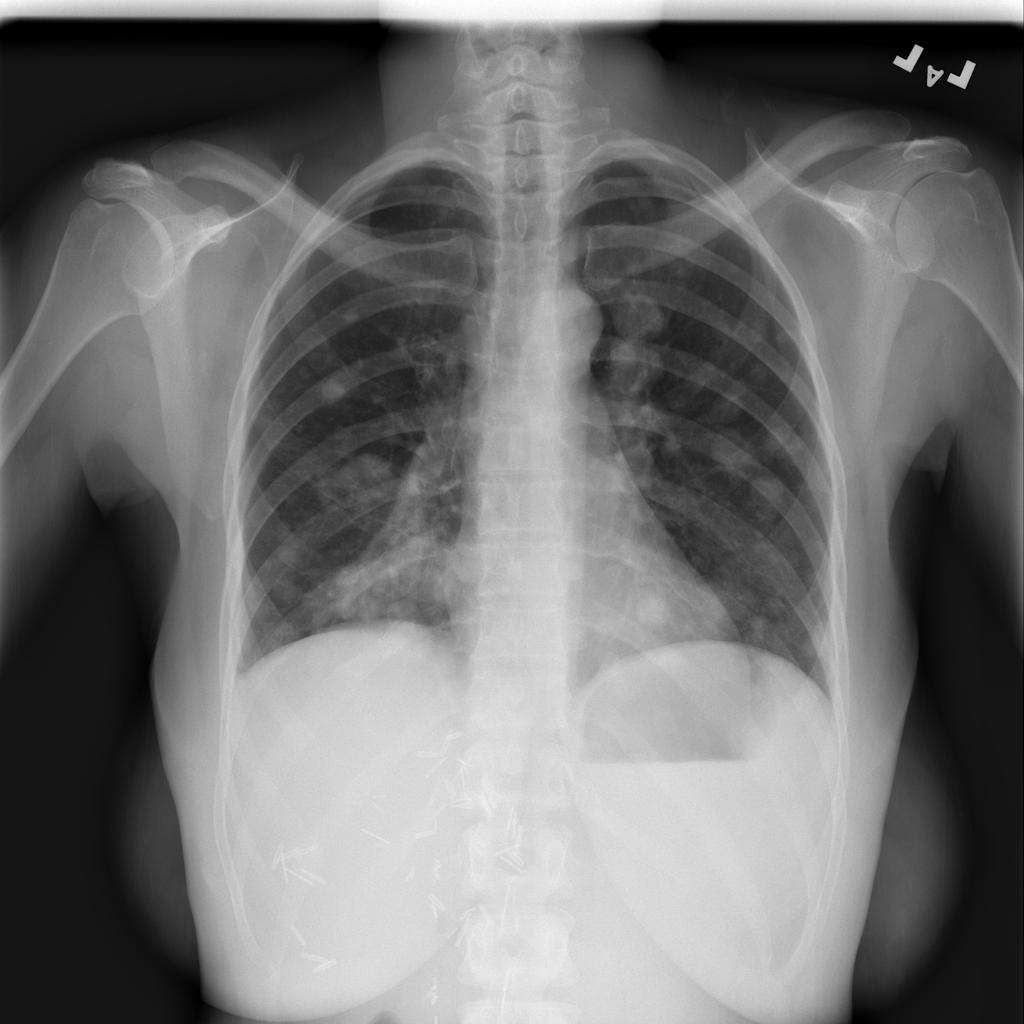nodule: (318, 445, 402, 511), (373, 604, 444, 681), (596, 318, 671, 390), (604, 279, 680, 348), (684, 565, 755, 632), (736, 463, 802, 533), (626, 583, 677, 635), (707, 428, 756, 481), (738, 603, 790, 652), (798, 611, 846, 664), (760, 415, 811, 464), (733, 353, 782, 402), (312, 361, 362, 409), (325, 289, 376, 336)
